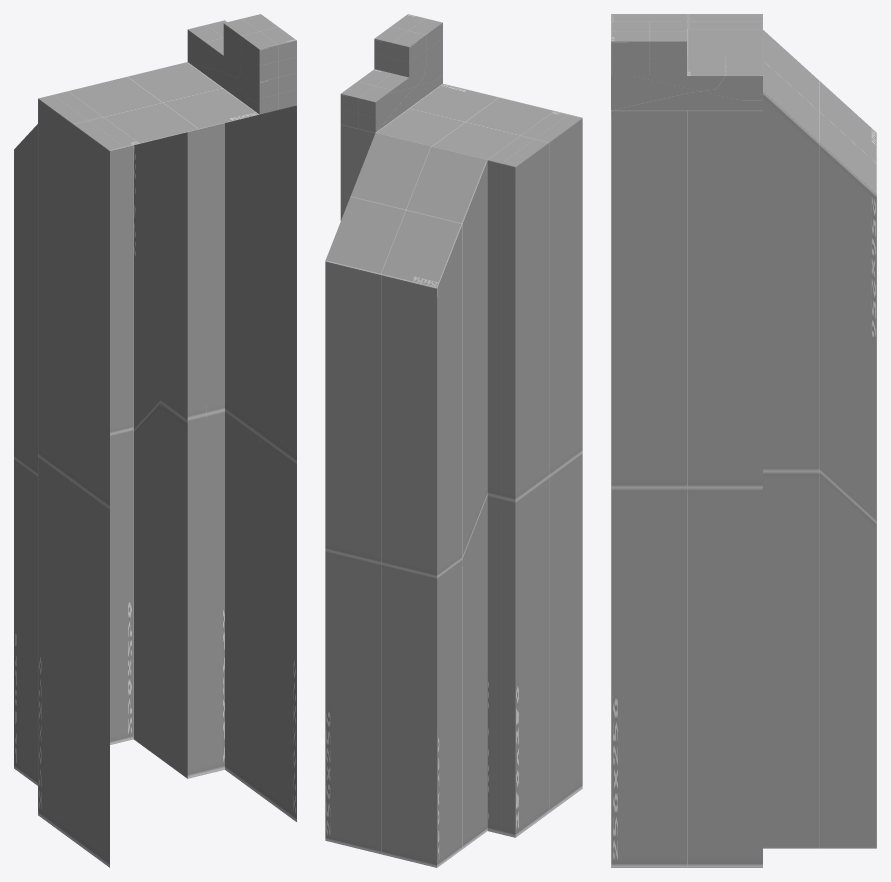
The model's file is segment_left.glb.
3 renders of one model, left to right at view 1: azimuth 30°, elevation 25°; view 2: azimuth 150°, elevation 25°; view 3: azimuth 270°, elevation 25°, orthographic. The views are drawn at different scales.
Visible parts, largest first — view 1: Cube; view 2: Cube; view 3: Cube.
Boxes of the visible parts, x1,y1,x2,y2 form: Cube: (14, 14, 296, 867); Cube: (325, 14, 582, 867); Cube: (611, 14, 876, 867).
Size of what is drawn, in the model's own units: 6 by 24 by 7.
Materials: 1 (1 with a texture image).
